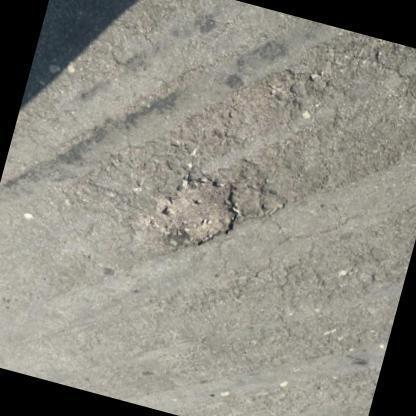pothole: (154, 173, 238, 245)
